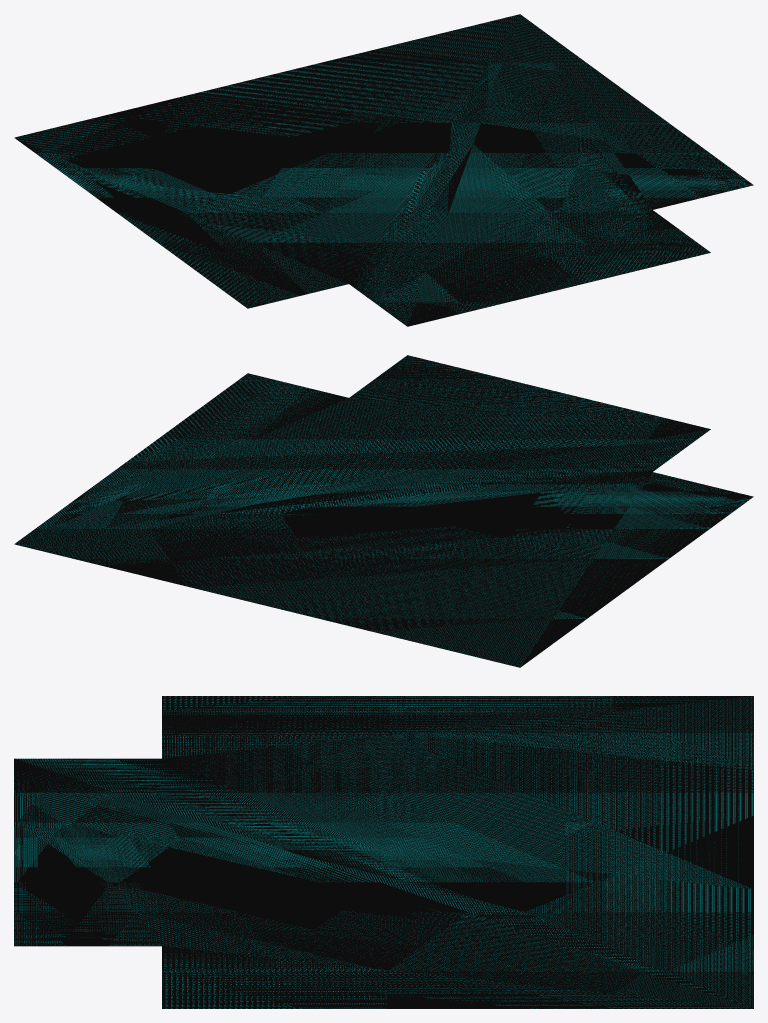
File: Dungeon Floor Zelda Prison.dae
3 renders of one model, top to bottom at view 1: azimuth 30°, elevation 25°; view 2: azimuth 150°, elevation 25°; view 3: azimuth 270°, elevation 25°, orthographic. The views are drawn at different scales.
Parts seen in each view (by area): view 1: group_0; view 2: group_0; view 3: group_0.
Part boxes in pixels (bbox=[...]): group_0: bbox=[14, 14, 753, 326]; group_0: bbox=[14, 355, 753, 667]; group_0: bbox=[14, 696, 753, 1008].
Size of what is drawn, in the model's own units: 197 by 197 by 0.
